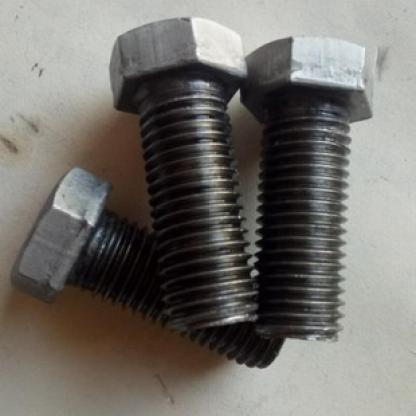FOD: (9, 165, 288, 370), (106, 13, 260, 336), (235, 32, 384, 348)
